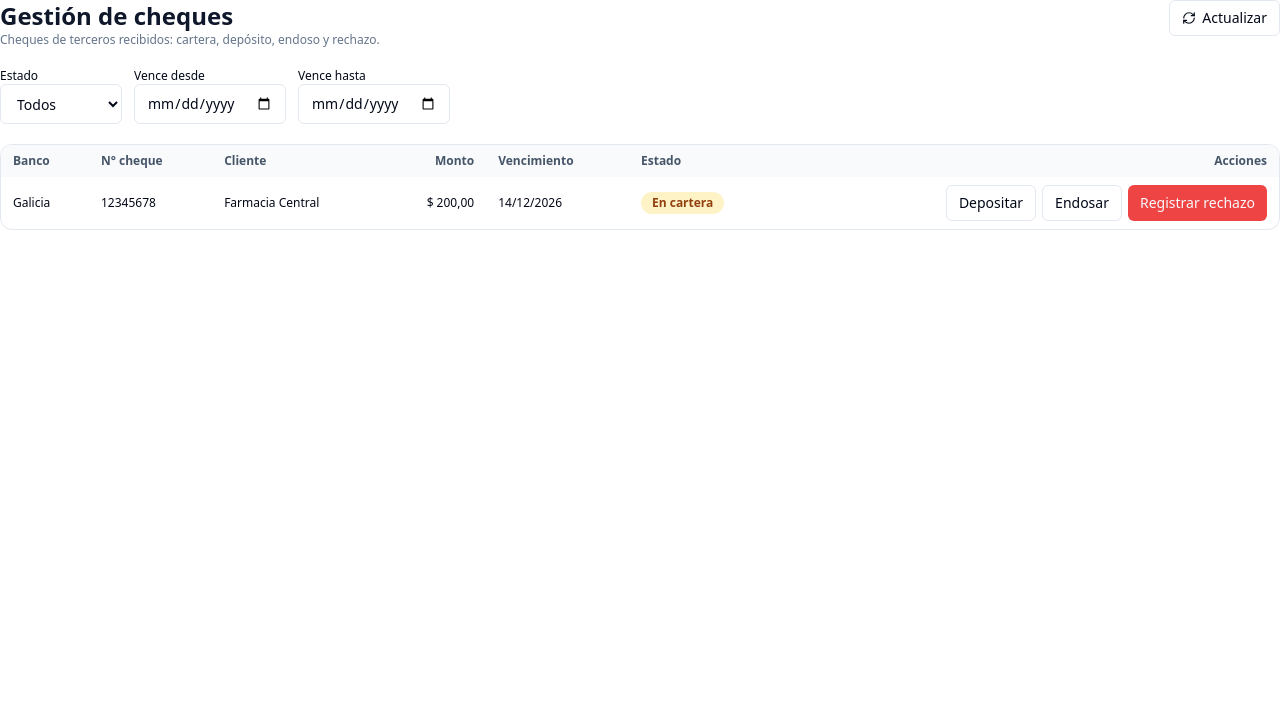
Test: ChecksPage › blocks the rejection and explains why when the ledger is inconsistent
Click the button "Registrar rechazo". click: (1198, 203)
box: x1=1128 y1=185 x2=1267 y2=221
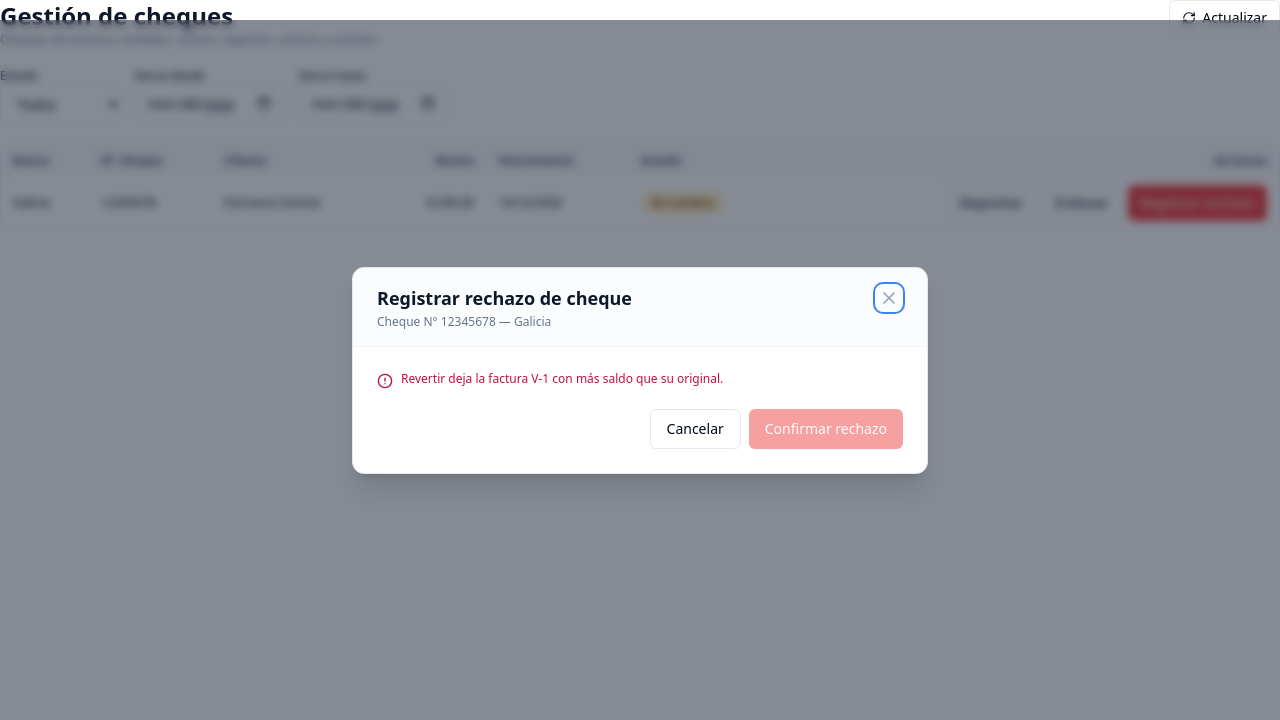
Expected: the text "Revertir deja la factura V-1 con más saldo que su original." is shown, x1=377 y1=370 x2=723 y2=388
Expected: the button "Confirmar rechazo" is disabled, x1=749 y1=408 x2=903 y2=448
